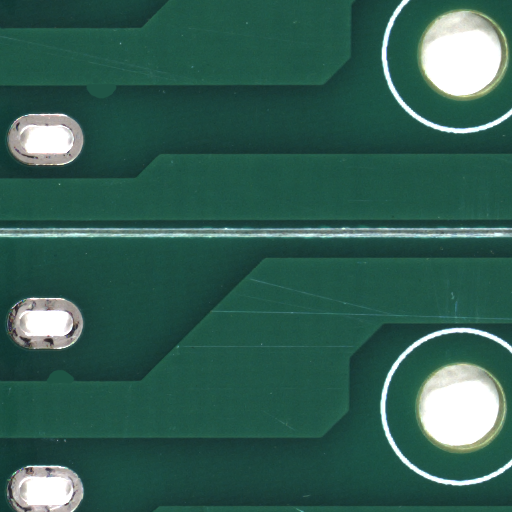Spur: (103, 88, 140, 104), (61, 375, 92, 388)
